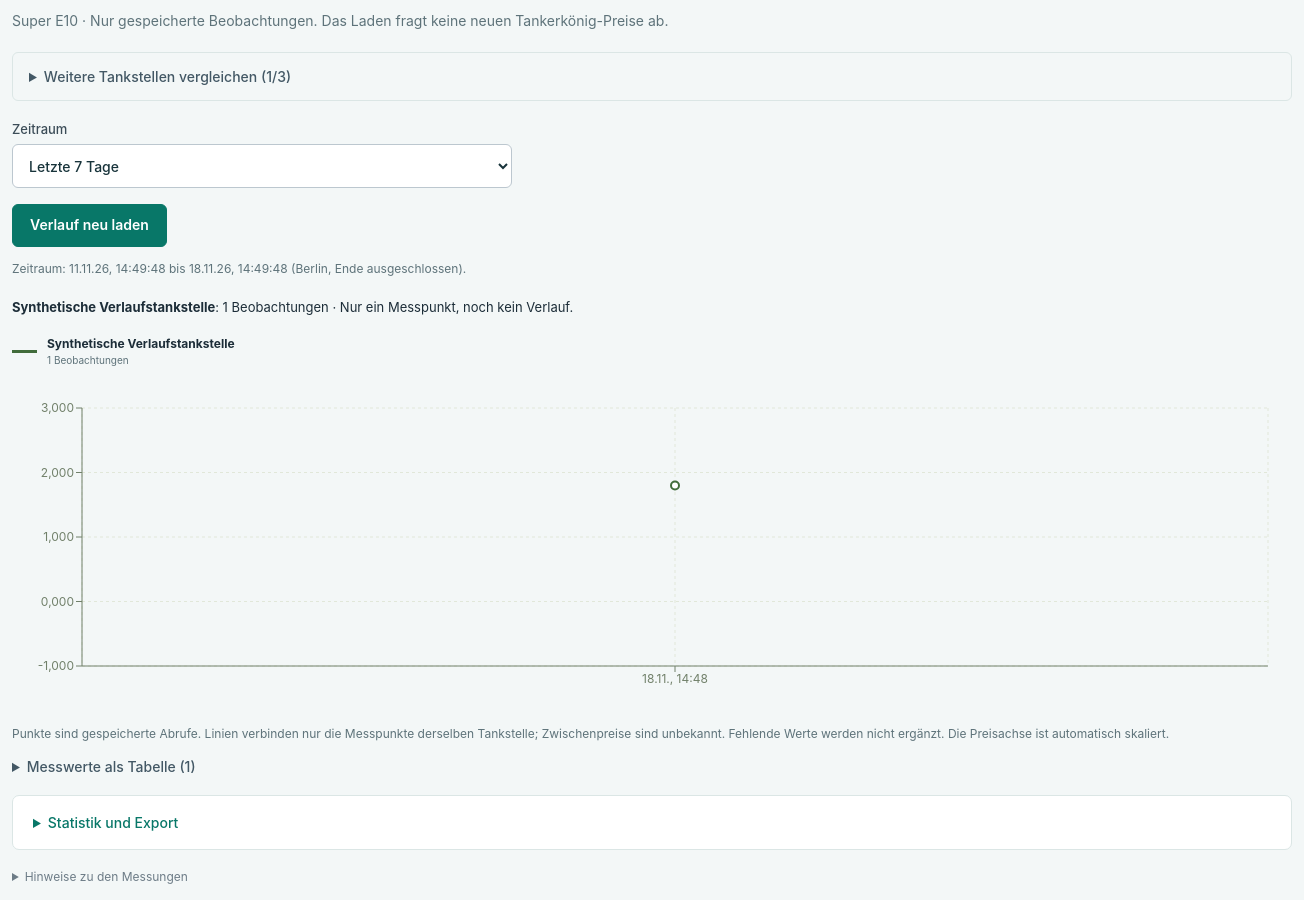
Test: keeps chart data visible while statistics and export open on demand without fetching again
(page scrolled)
Expected: the text "Nur ein Messpunkt" is shown, [329,299,573,315]
Click the heading "Statistik und Export": (113, 822) [48,814,178,831]
(page scrolled)
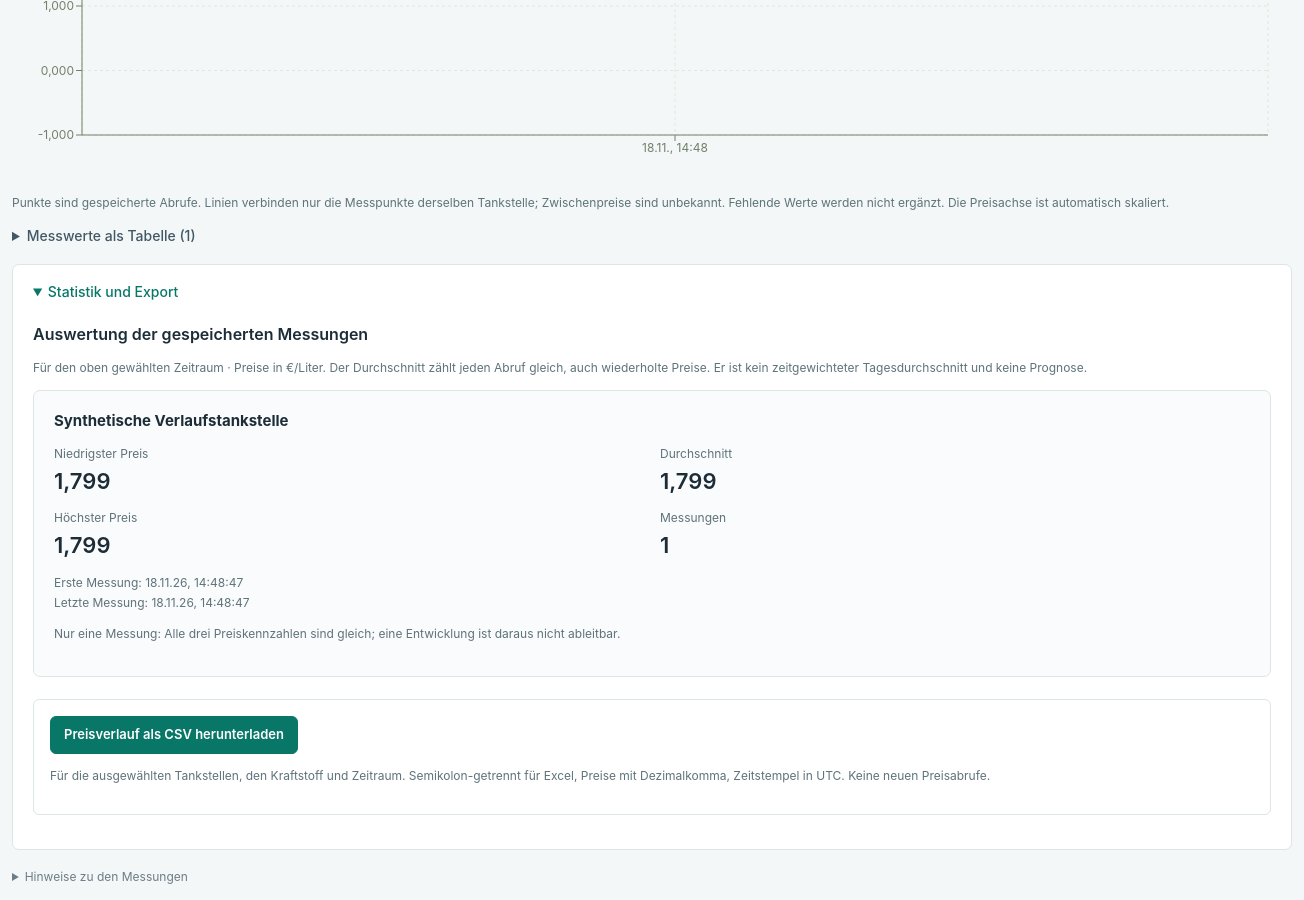
Now the heading "Auswertung der gespeicherten Messungen" is shown, box [33,324,368,344]
Now the button "Preisverlauf als CSV herunterladen" is enabled, box [50,716,298,754]
